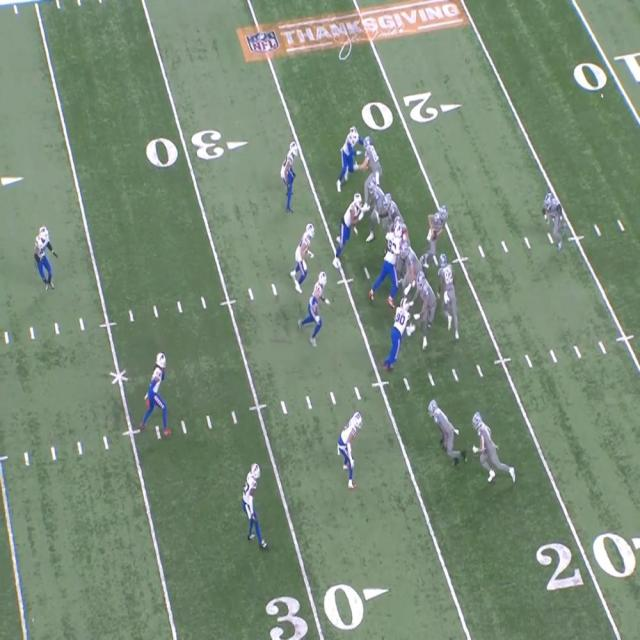db: (148, 350, 170, 431), (342, 410, 363, 487), (245, 462, 263, 542), (34, 224, 52, 288), (283, 138, 299, 208)
lb: (306, 267, 328, 343), (295, 220, 313, 293)
qb: (423, 204, 446, 266)
skill: (436, 252, 461, 342), (472, 411, 500, 482), (432, 401, 462, 464), (544, 190, 562, 245), (361, 137, 382, 180)
